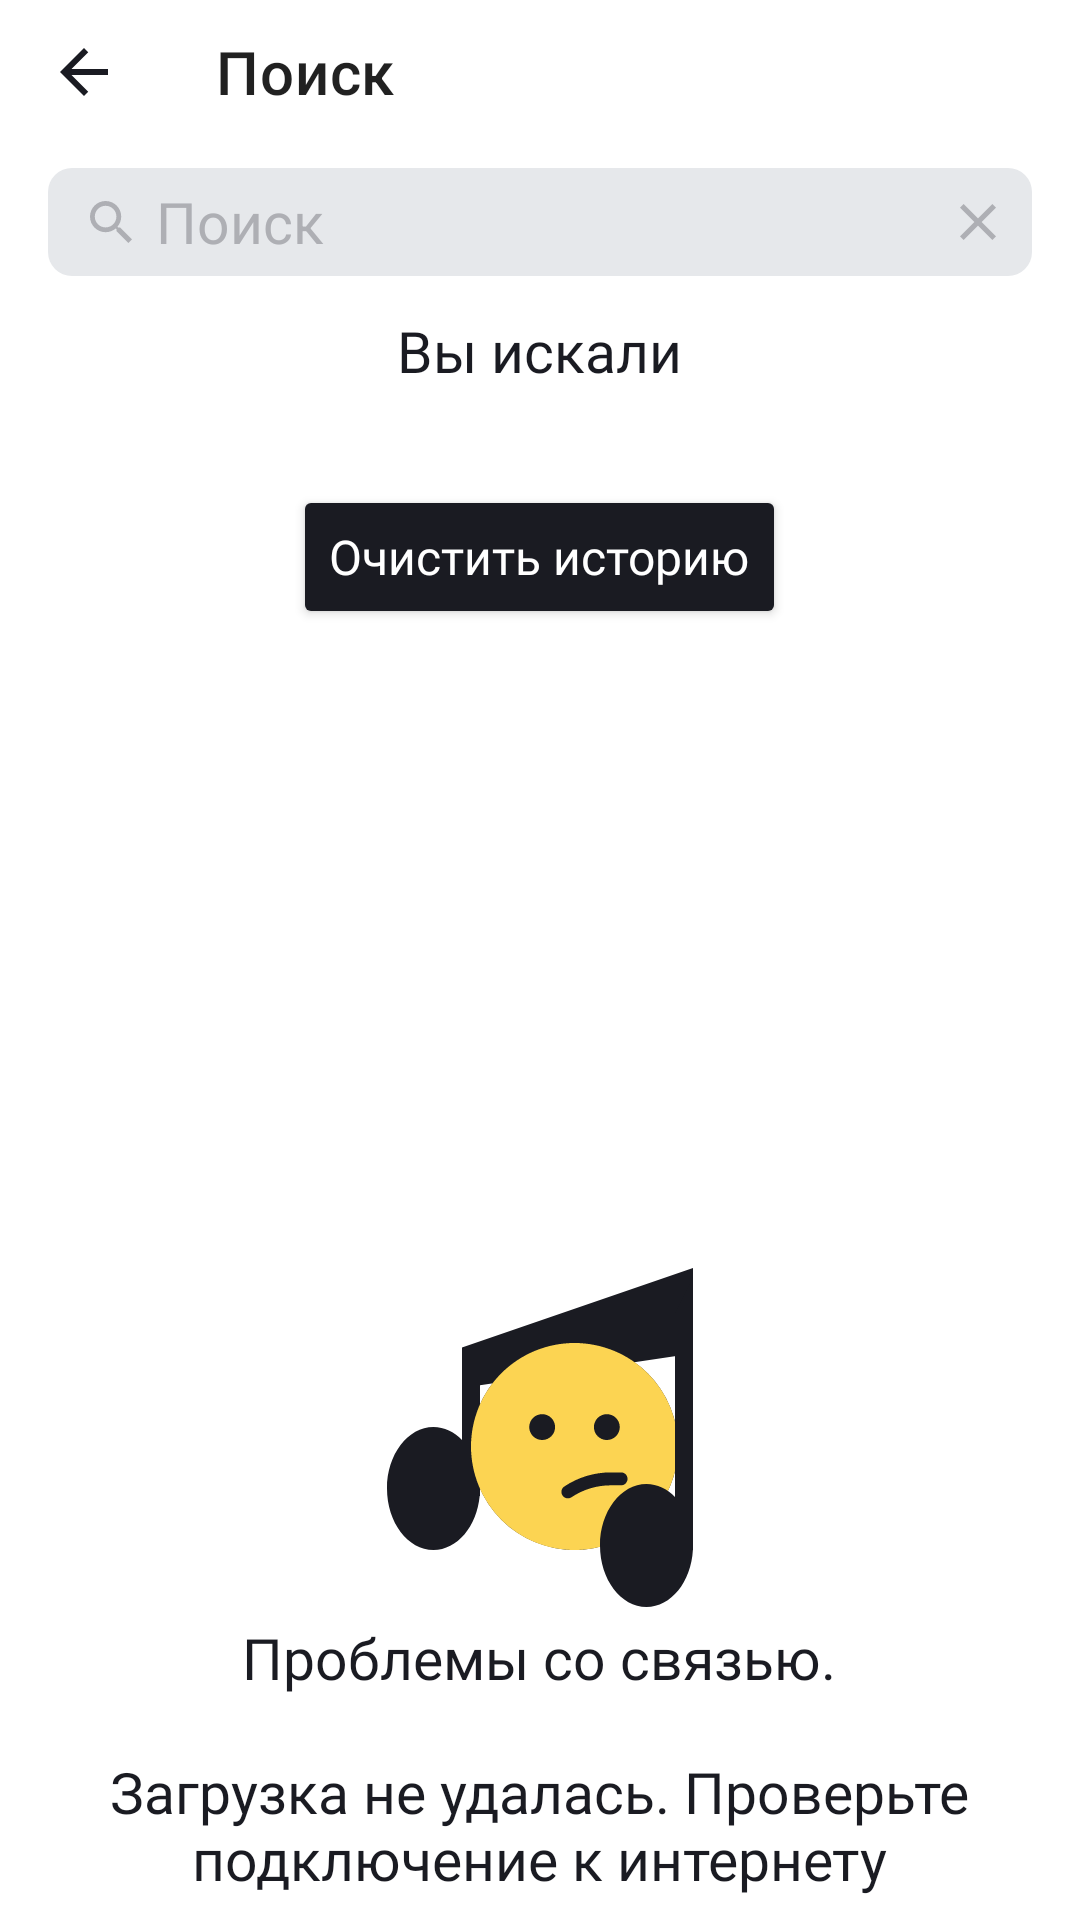

Icons on this 1080px x 1920px Android screen, each with the point to tap as point (x, y):
cross: point (978, 222)
empty results error: point (540, 1437)
